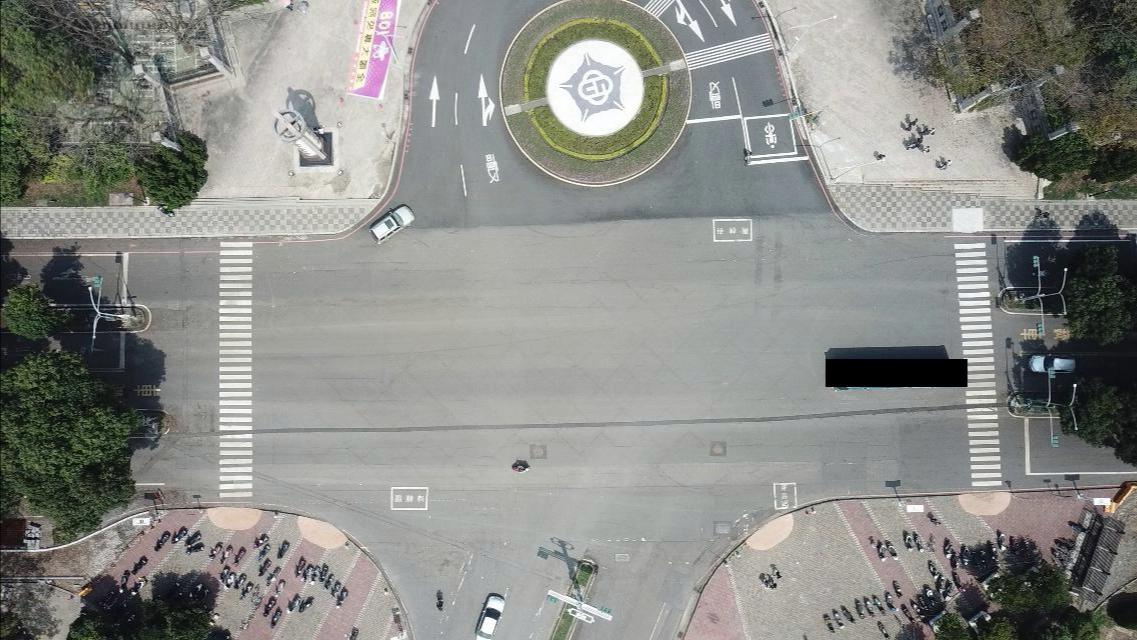vehicle: (367, 205, 414, 242), (473, 595, 506, 639), (1026, 353, 1075, 375)
